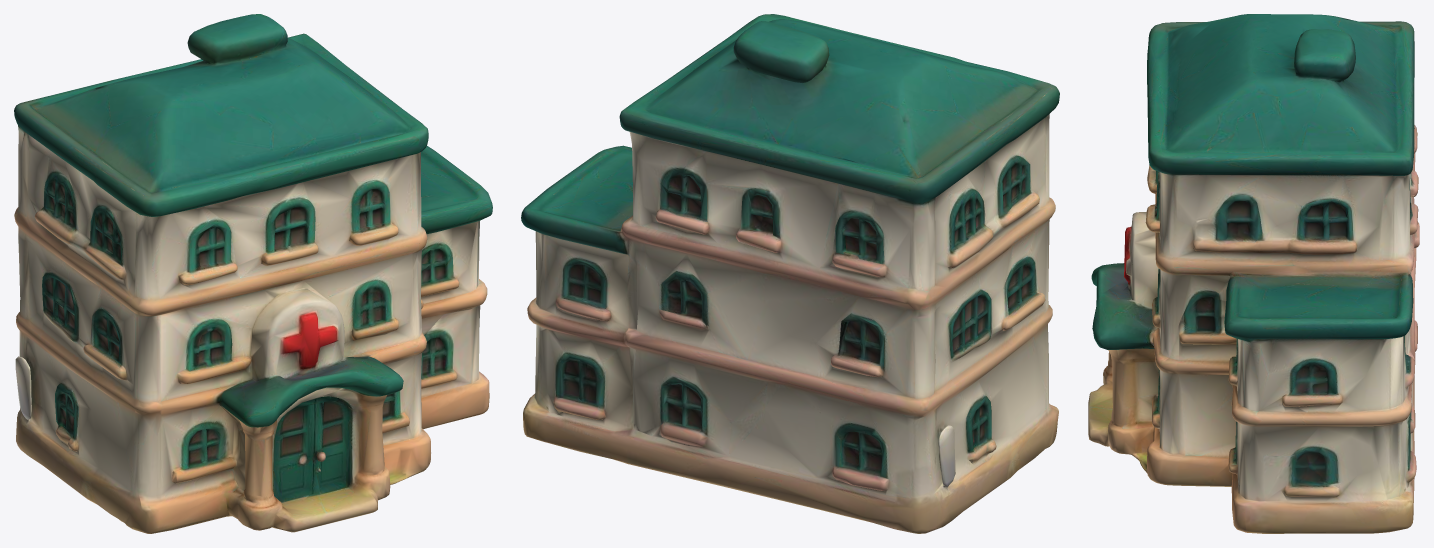
Rendered from building-hospital.glb.
3 views of the same model, side by side, from view 1: azimuth 30°, elevation 25°; view 2: azimuth 150°, elevation 25°; view 3: azimuth 270°, elevation 25° (orthographic). The views are drawn at different scales.
Parts seen in each view (by area): view 1: Mesh_0; view 2: Mesh_0; view 3: Mesh_0.
Part boxes in pixels (x1,y1,x2,y2): Mesh_0: [14, 14, 492, 533]; Mesh_0: [521, 14, 1059, 533]; Mesh_0: [1088, 14, 1419, 533].
Size of the model in its own units: 2 by 1.94 by 1.47.
Materials: 1 (1 with a texture image).
